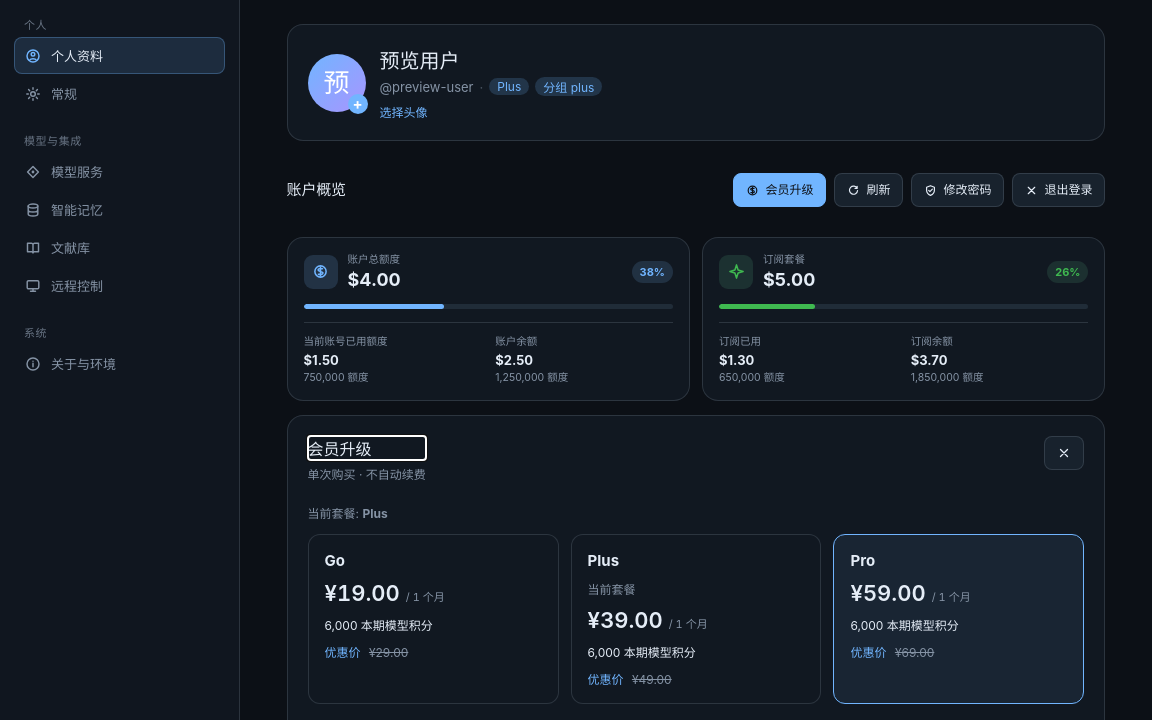
Test: Settings against a native backend › opens and reopens the membership panel from an account-menu request before mount
Expected: the heading "会员升级" is shown, [308,439,372,459]
Expected: the button "Pro ¥59.00 / 1 个月 6,000 本期模型积分 优惠价 ¥69.00" is shown, [834,534,1084,704]
Click the button named "收起购买" at (1064, 453), box [1044,436,1084,470]
(page scrolled)
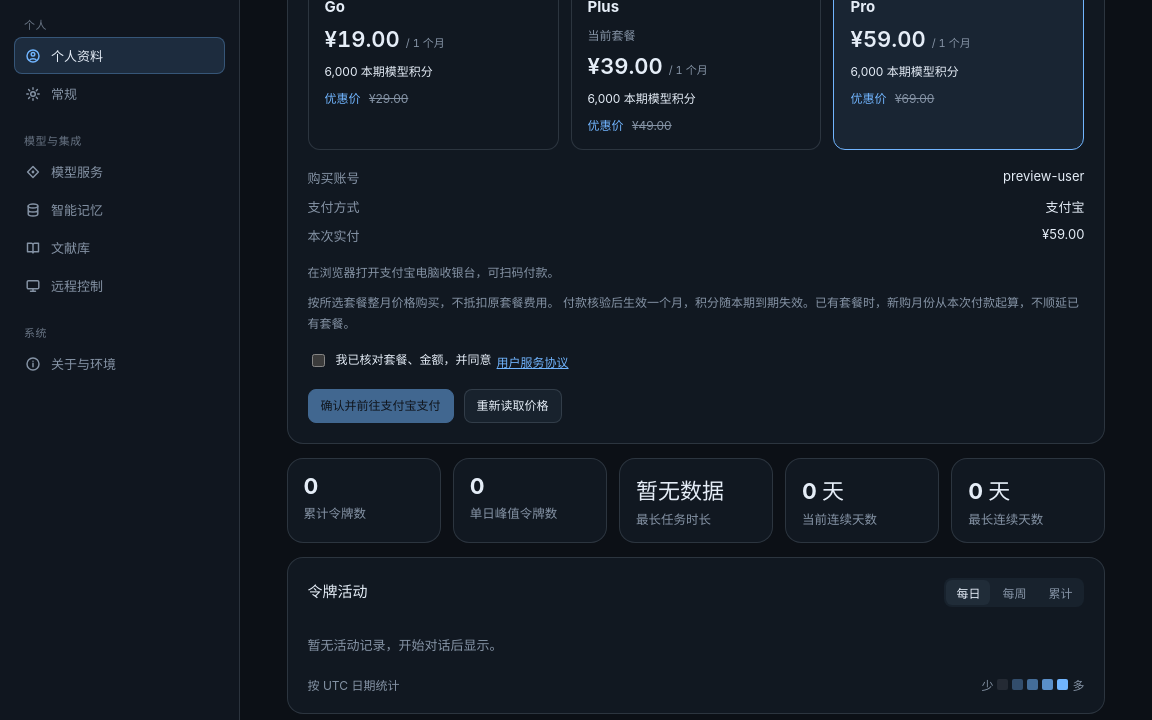
Result: the button "会员升级" is gone
Result: the checkbox is not checked at [312,354,324,367]
